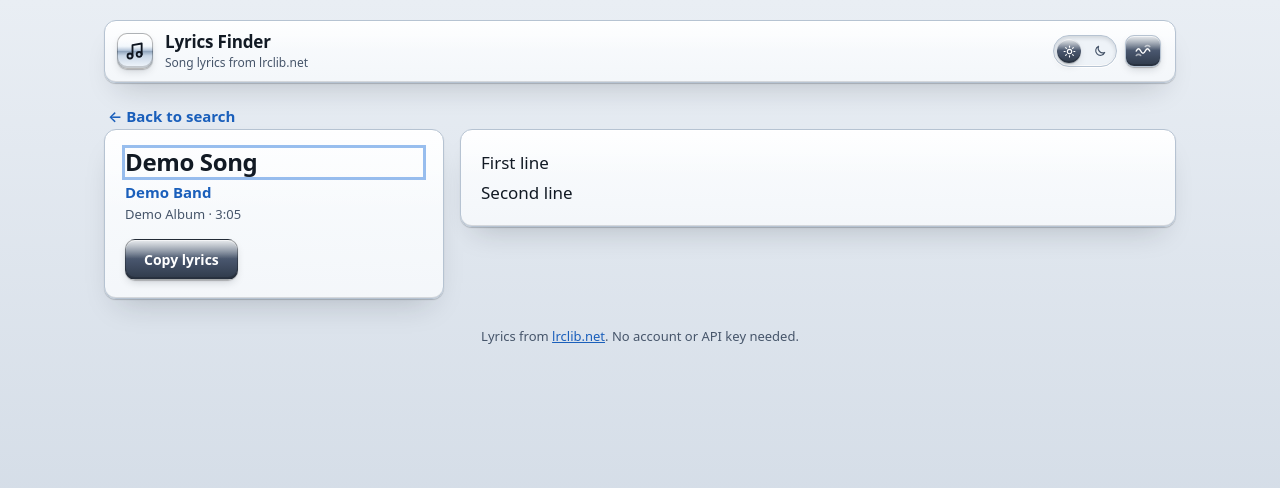
Test: lyrics page › copies and announces it
Click the button "Copy lyrics": (181, 259) [125,239,238,280]
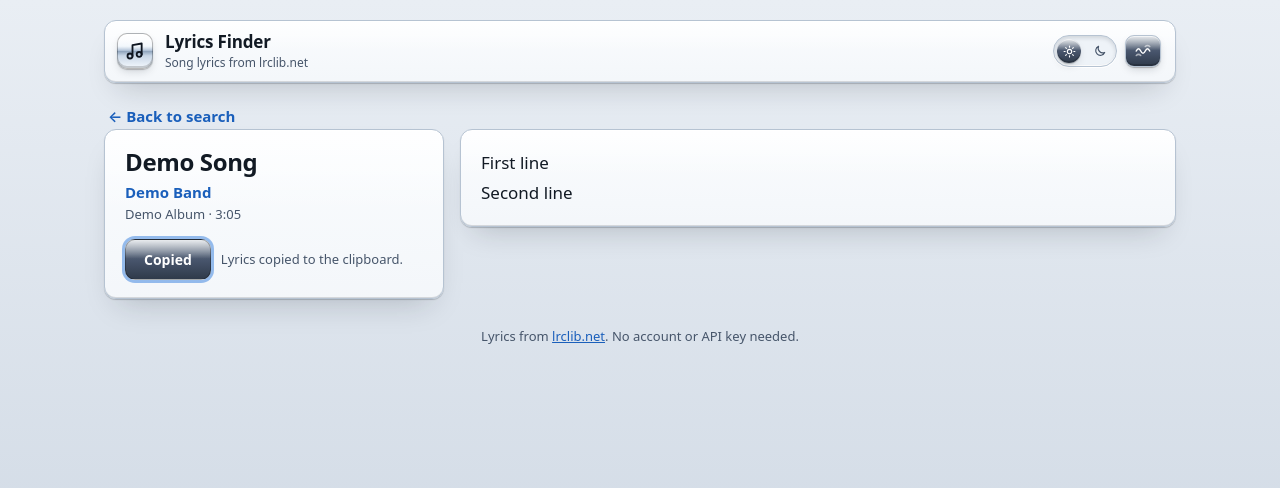
Result: the text "Lyrics copied to the clipboard." is shown at [221,250,403,269]
